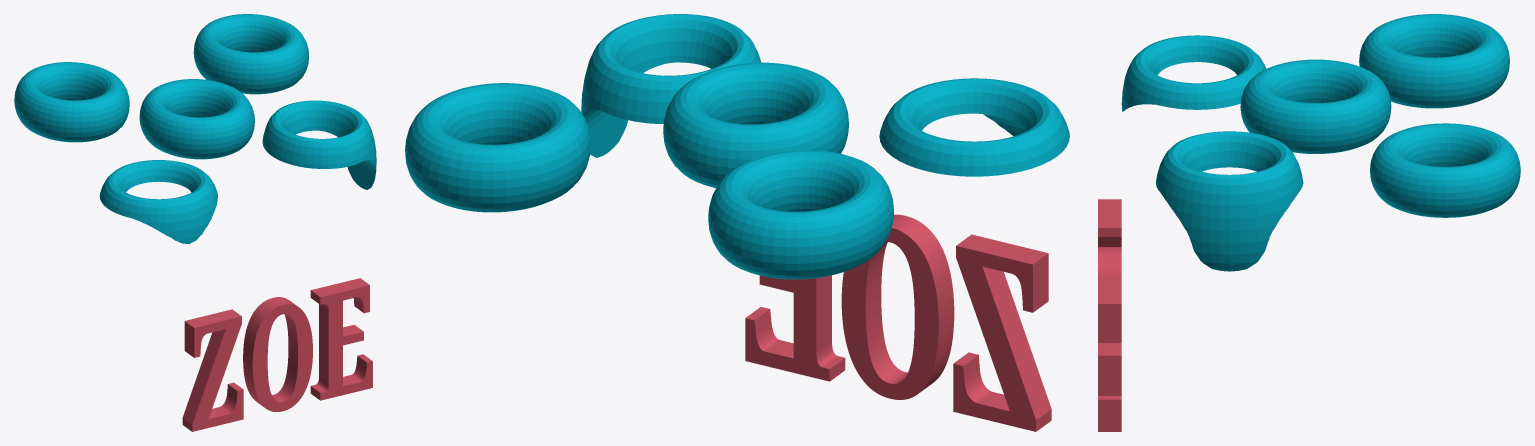
Rendered from Glorious Blorr-Sango.glb.
3 views of the same model, side by side, from view 1: azimuth 30°, elevation 25°; view 2: azimuth 150°, elevation 25°; view 3: azimuth 270°, elevation 25° (orthographic). The views are drawn at different scales.
Visible parts, largest first — view 1: Mesh_Mesh_head_geo.001_lambert2SG.001; view 2: Mesh_Mesh_head_geo.001_lambert2SG.001; view 3: Mesh_Mesh_head_geo.001_lambert2SG.001.
Part boxes in pixels (bbox=[...]): Mesh_Mesh_head_geo.001_lambert2SG.001: bbox=[14, 14, 376, 431]; Mesh_Mesh_head_geo.001_lambert2SG.001: bbox=[405, 14, 1069, 431]; Mesh_Mesh_head_geo.001_lambert2SG.001: bbox=[1098, 14, 1520, 431].
Size of the model in its own units: 0.0384 by 0.0307 by 0.0392.
